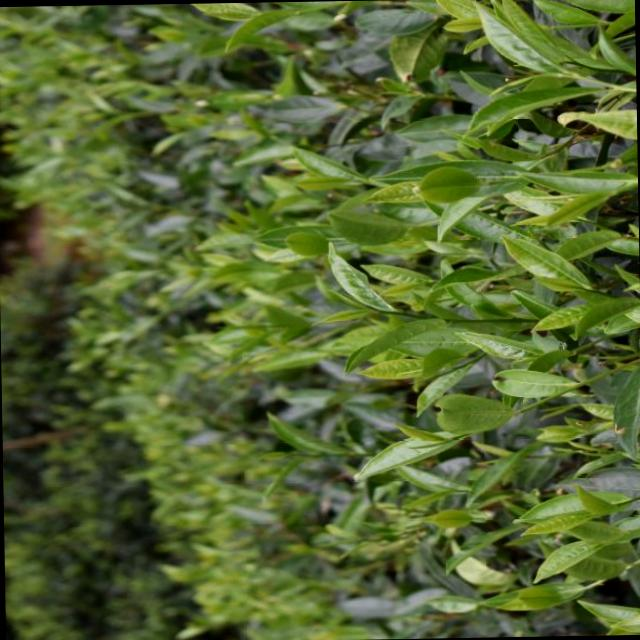Stem: (574, 73, 580, 77), (378, 309, 385, 312), (453, 435, 458, 438), (616, 502, 621, 505)
